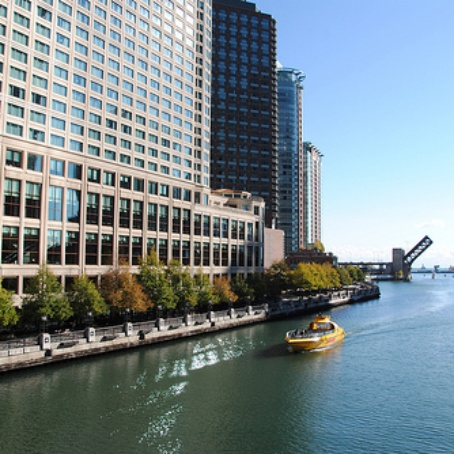boat: (274, 310, 356, 356)
building: (1, 1, 220, 272), (213, 1, 281, 249), (270, 58, 317, 259), (299, 135, 325, 253)
river: (1, 285, 440, 454)
sky: (292, 1, 454, 249)
